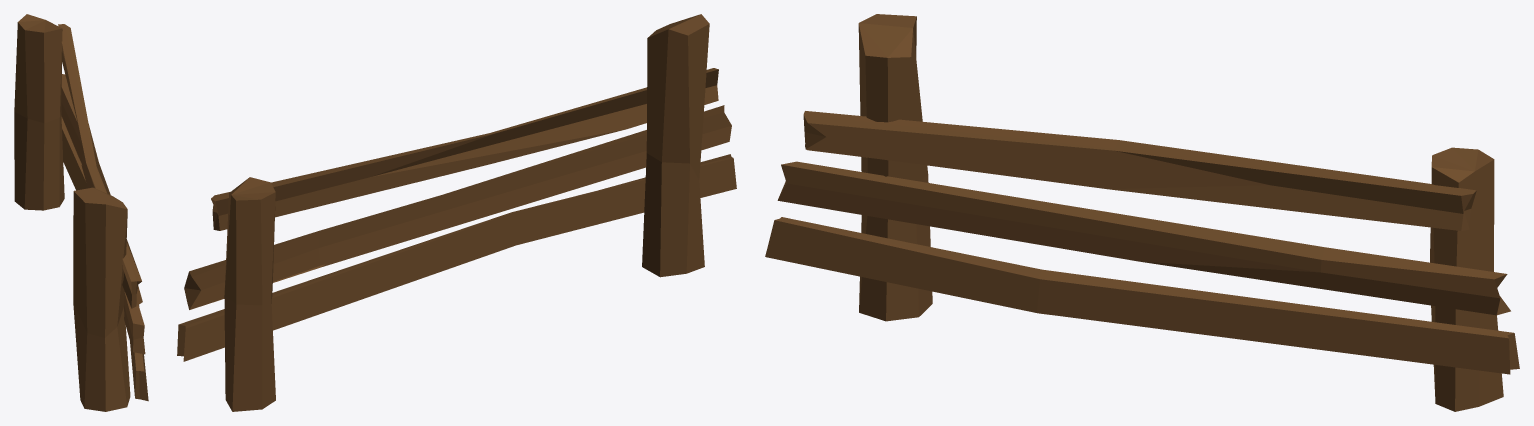
Rendered from fence.fbx.
3 views of the same model, side by side, from view 1: azimuth 30°, elevation 25°; view 2: azimuth 150°, elevation 25°; view 3: azimuth 270°, elevation 25° (orthographic). The views are drawn at different scales.
Parts seen in each view (by area): view 1: fence; view 2: fence; view 3: fence.
Part boxes in pixels (box(x1,y1,x2,y2)): fence: box(14, 14, 148, 411); fence: box(177, 14, 736, 411); fence: box(765, 14, 1519, 411).
Bounding box in the file's own units: 473 × 428 × 1061.
